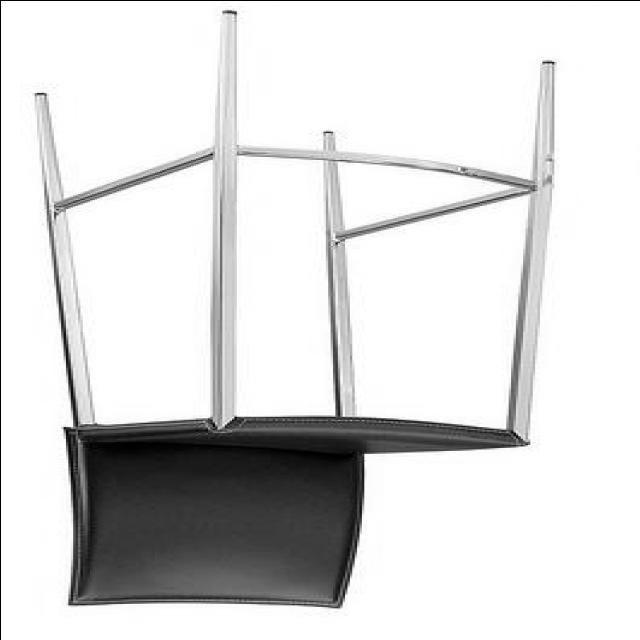chair: (30, 8, 562, 630)
